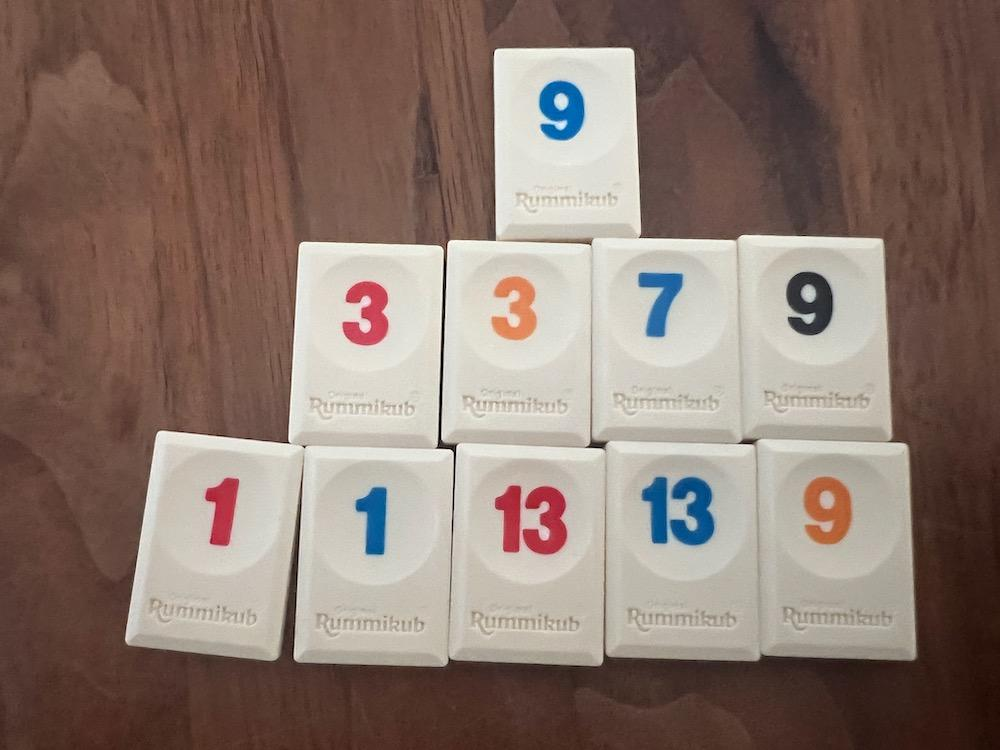black_9: (740, 236, 893, 441)
blue_1: (295, 447, 452, 666)
blue_13: (605, 441, 760, 660)
blue_7: (592, 238, 742, 443)
blue_9: (496, 50, 641, 242)
orange_3: (441, 240, 590, 447)
orange_9: (756, 441, 916, 660)
red_1: (125, 432, 303, 660)
red_13: (449, 443, 605, 666)
red_3: (289, 242, 443, 447)
